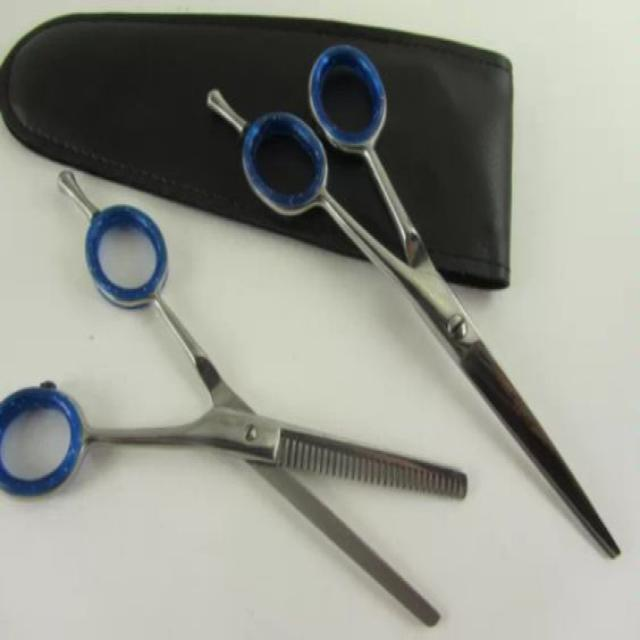Gunting: (0, 152, 482, 630)
